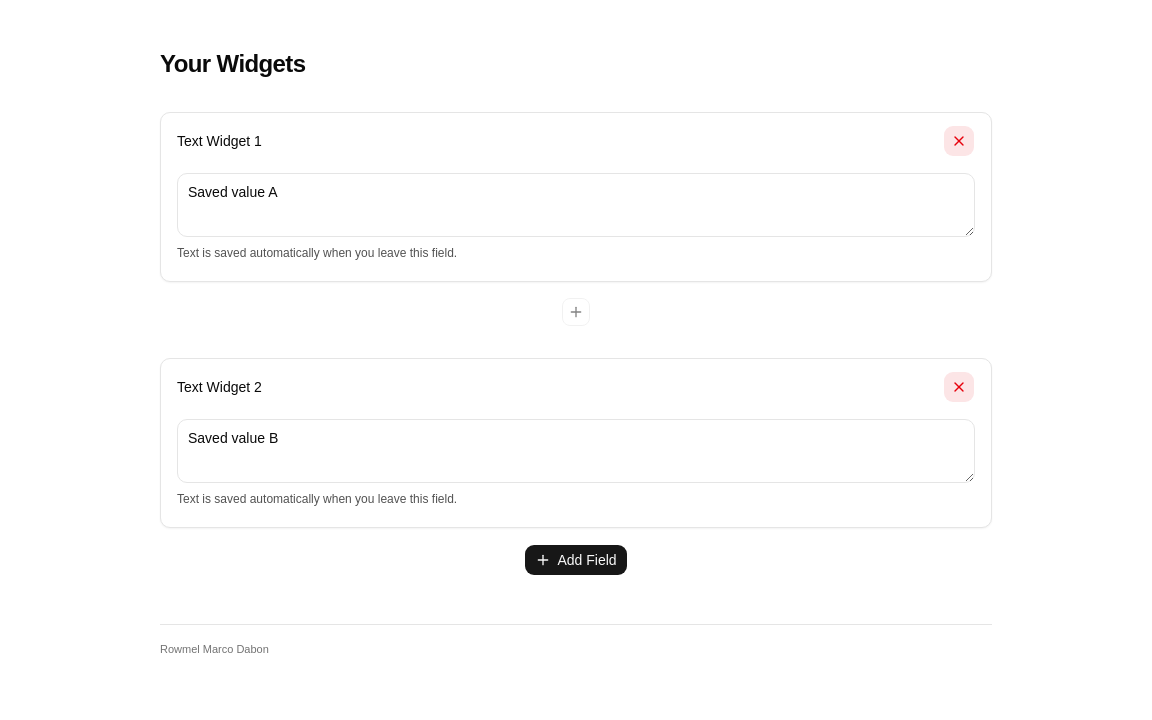
Test: widgets › keeps widget B unchanged when widget A is edited and saved
This screenshot has width=1152, height=720.
Clear the text box named "Text Widget 1": (576, 205) [177,173,975,237]
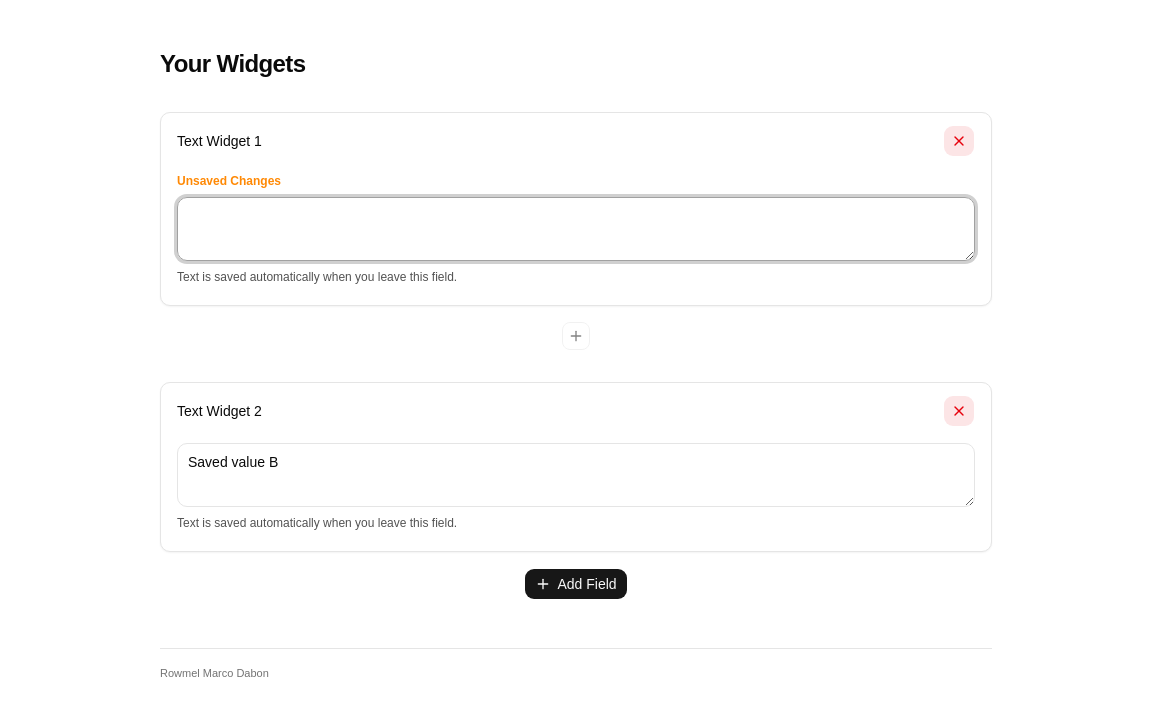
In the text box named "Text Widget 1": (576, 229) [177,197,975,261], type "Updated A"
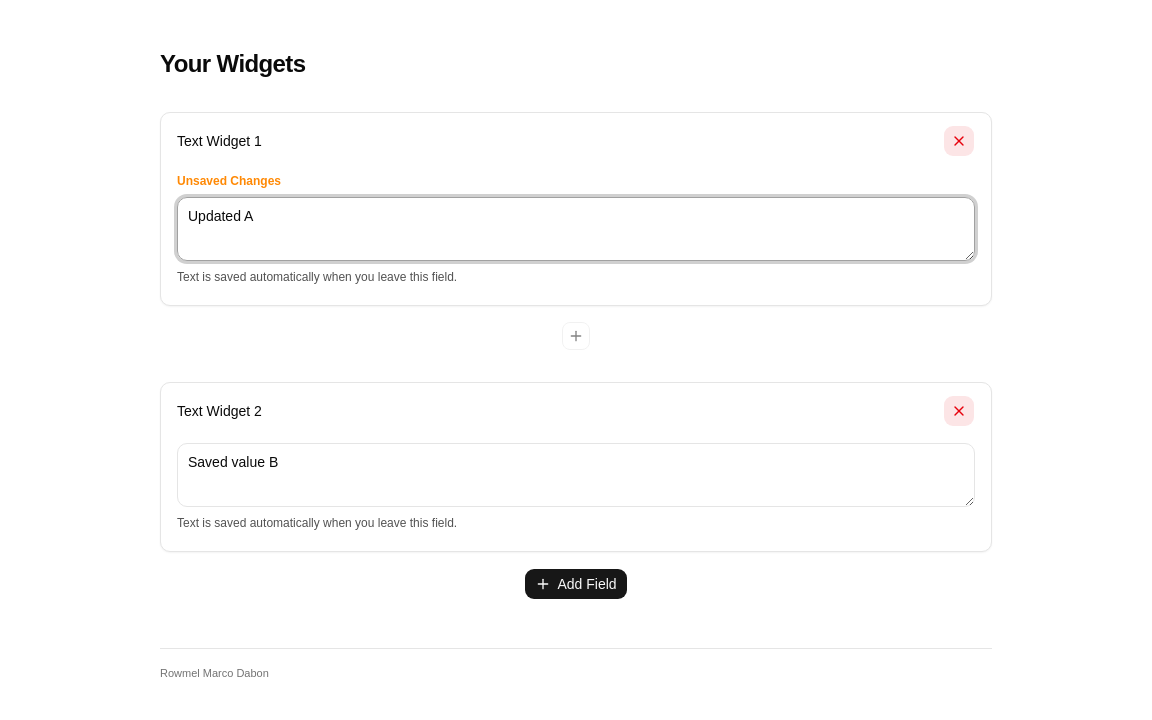
Check: the text box named "Text Widget 2" holds "Saved value B", box [177,443,975,507]
Press Tab
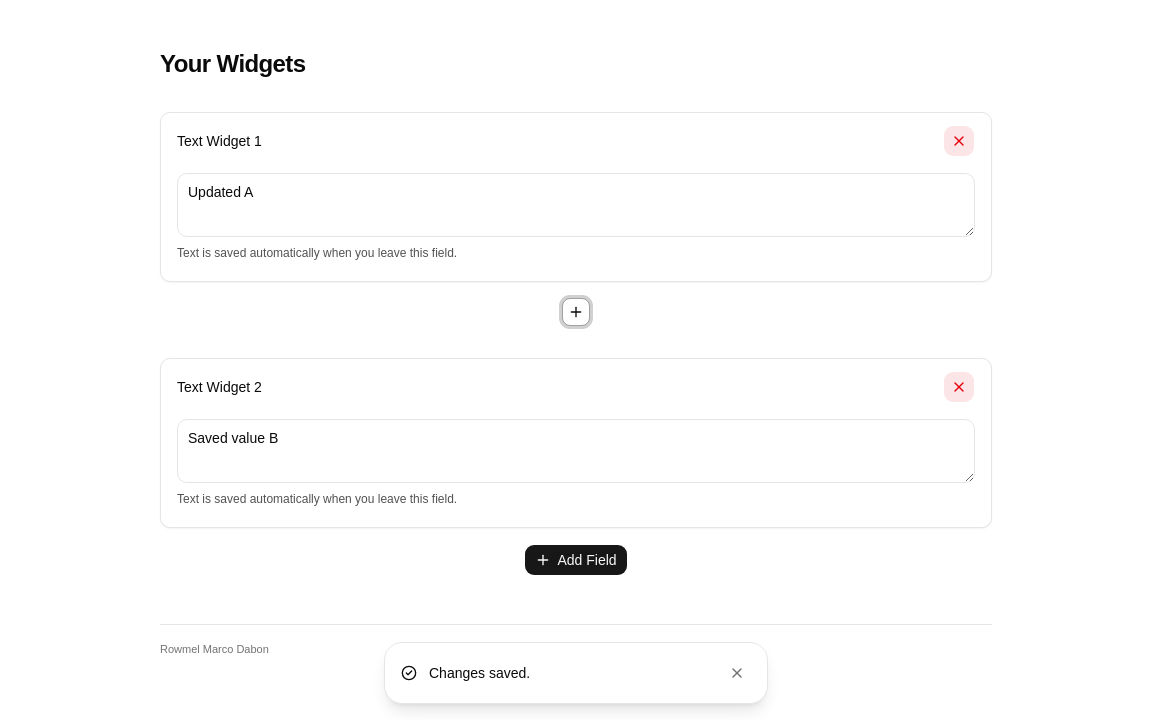
Check: the text box named "Text Widget 2" holds "Saved value B", box [177,419,975,483]
Check: the heading "Changes saved." is shown, box [429,665,530,681]
